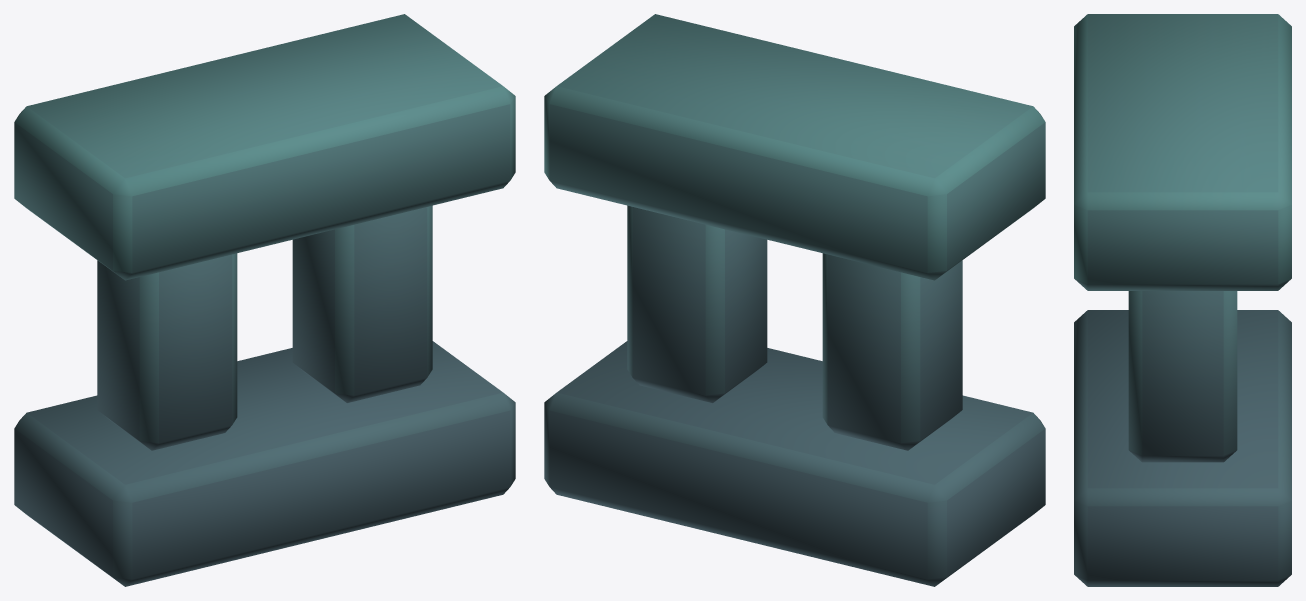
File: fence_01_hue_1.fbx
The picture shows the model from 3 angles, left to right: view 1: azimuth 30°, elevation 25°; view 2: azimuth 150°, elevation 25°; view 3: azimuth 270°, elevation 25°; orthographic projection. The views are drawn at different scales.
Parts seen in each view (by area): view 1: fence_01_hue_1; view 2: fence_01_hue_1; view 3: fence_01_hue_1.
Part boxes in pixels (x1,y1,x2,y2): fence_01_hue_1: [14, 14, 515, 586]; fence_01_hue_1: [544, 14, 1045, 586]; fence_01_hue_1: [1074, 14, 1291, 586].
Bounding box in the file's own units: 103 × 100 × 50.
